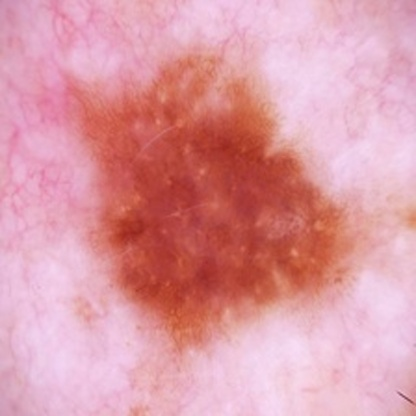benign: (89, 95, 327, 297)
